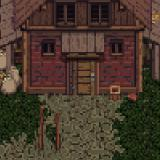Interaction: (27, 113, 69, 157)
Obstacle: (0, 0, 160, 129)
